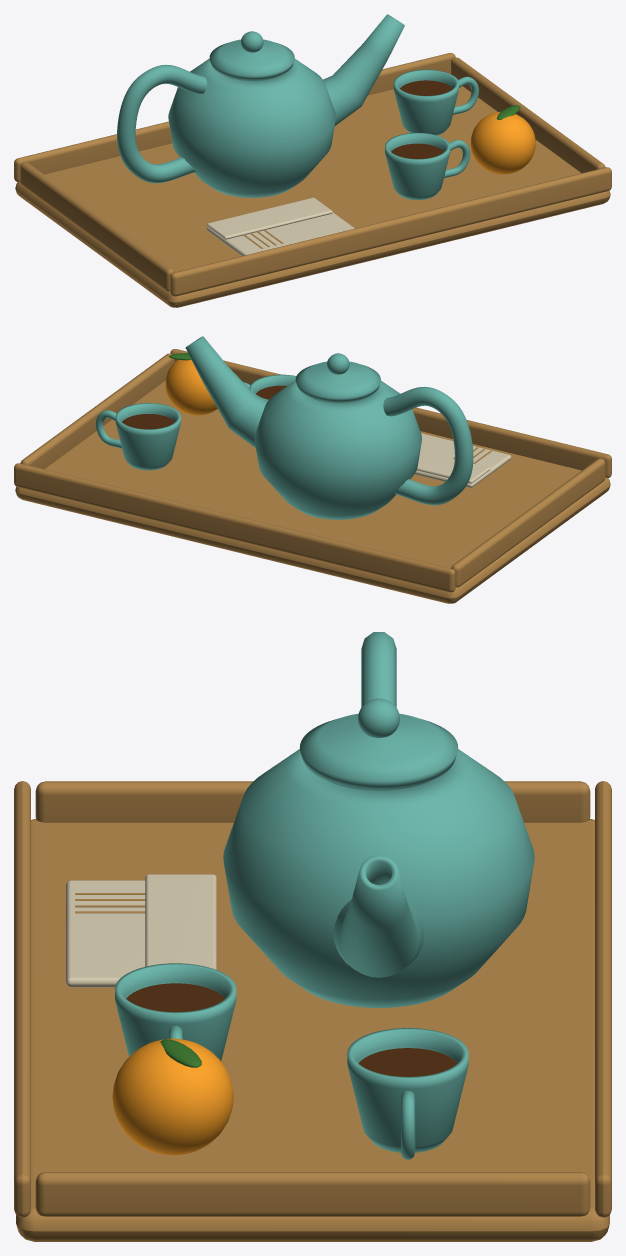
Rendered from result.glb.
3 views of the same model, one above another, from view 1: azimuth 30°, elevation 25°; view 2: azimuth 150°, elevation 25°; view 3: azimuth 270°, elevation 25° (orthographic). The views are drawn at different scales.
Visible parts, largest first — view 1: Wood serving tray, Teapot body, Tray raised rim, Tray raised rim.001, Tray end rail, Arched teapot handle, Hollow curved spout, Citrus, Tray end rail.001, Cup, Cup.001, Teapot lid (+6 smaller); view 2: Wood serving tray, Teapot body, Tray raised rim.001, Tray raised rim, Tray end rail, Arched teapot handle, Hollow curved spout, Tray end rail.001, Cup.001, Teapot lid, Citrus, Folded linen (+5 smaller); view 3: Wood serving tray, Teapot body, Tray end rail.001, Tray end rail, Citrus, Cup.001, Teapot lid, Folded linen, Hollow curved spout, Tray raised rim, Tray raised rim.001, Cup (+6 smaller).
Boxes of the visible parts, left/top/right/bottom form: Wood serving tray: left=15, top=86, right=610, bottom=307; Teapot body: left=168, top=58, right=335, bottom=197; Tray raised rim: left=170, top=167, right=611, bottom=296; Tray raised rim.001: left=14, top=53, right=455, bottom=181; Tray end rail: left=20, top=162, right=174, bottom=291; Arched teapot handle: left=117, top=64, right=207, bottom=183; Hollow curved spout: left=323, top=14, right=404, bottom=125; Citrus: left=470, top=112, right=535, bottom=174; Tray end rail.001: left=451, top=57, right=605, bottom=173; Cup: left=385, top=132, right=450, bottom=199; Cup.001: left=393, top=69, right=458, bottom=135; Teapot lid: left=209, top=39, right=294, bottom=80; Wood serving tray: left=15, top=380, right=610, bottom=603; Teapot body: left=254, top=380, right=421, bottom=519; Tray raised rim.001: left=14, top=463, right=455, bottom=592; Tray raised rim: left=170, top=349, right=611, bottom=477; Tray end rail: left=451, top=458, right=605, bottom=587; Arched teapot handle: left=383, top=386, right=473, bottom=505; Hollow curved spout: left=185, top=336, right=266, bottom=447; Tray end rail.001: left=20, top=353, right=174, bottom=469; Cup.001: left=115, top=403, right=180, bottom=470; Teapot lid: left=295, top=361, right=380, bottom=402; Citrus: left=165, top=359, right=217, bottom=415; Folded linen: left=414, top=433, right=511, bottom=487; Wood serving tray: left=16, top=819, right=609, bottom=1241; Teapot body: left=223, top=749, right=534, bottom=1007; Tray end rail.001: left=35, top=1172, right=590, bottom=1216; Tray end rail: left=35, top=781, right=590, bottom=822; Citrus: left=112, top=1038, right=233, bottom=1155; Cup.001: left=347, top=1028, right=468, bottom=1152; Teapot lid: left=299, top=713, right=458, bottom=789; Folded linen: left=66, top=880, right=145, bottom=987; Hollow curved spout: left=333, top=855, right=424, bottom=977; Tray raised rim: left=14, top=781, right=30, bottom=1217; Tray raised rim.001: left=595, top=781, right=611, bottom=1217; Cup: left=115, top=963, right=236, bottom=1061.
Size of what is drawn, in the model's own units: 3.6 by 1.28 by 2.27.
